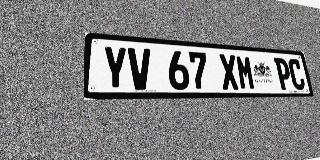6: (167, 50, 190, 90)
7: (187, 52, 210, 90)
C: (287, 59, 306, 90)
M: (235, 55, 256, 90)
P: (274, 58, 293, 90)
V: (128, 47, 152, 90)
X: (218, 54, 240, 90)
Y: (102, 46, 128, 90)
